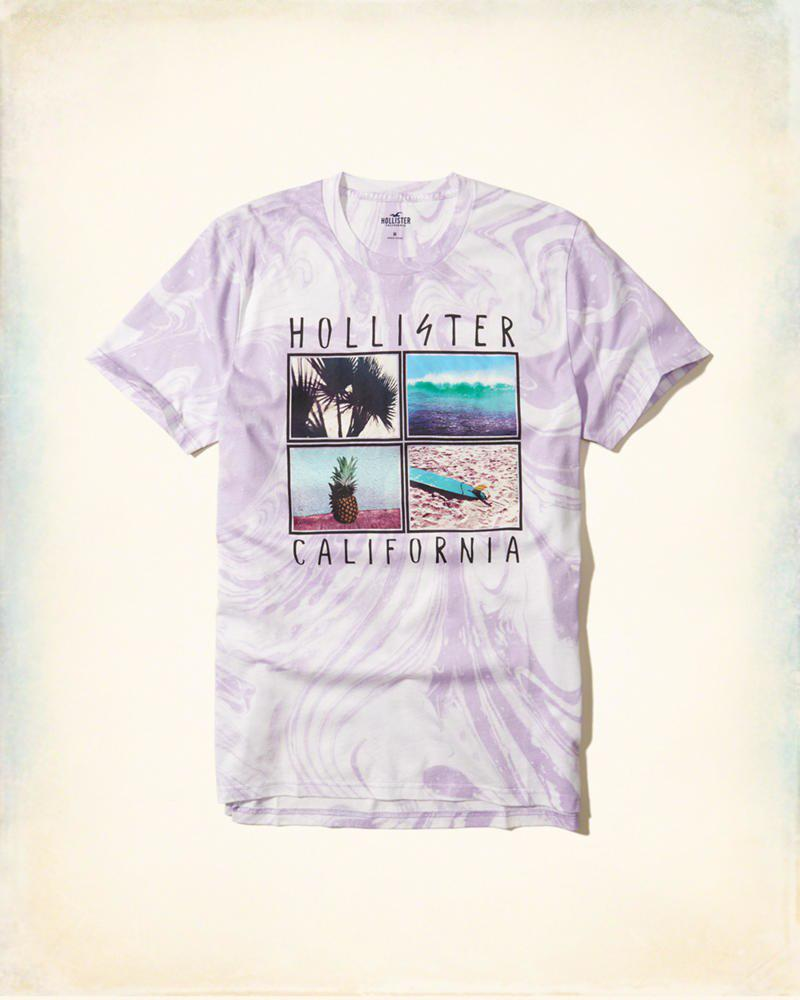teeshirt: (77, 172, 730, 874)
